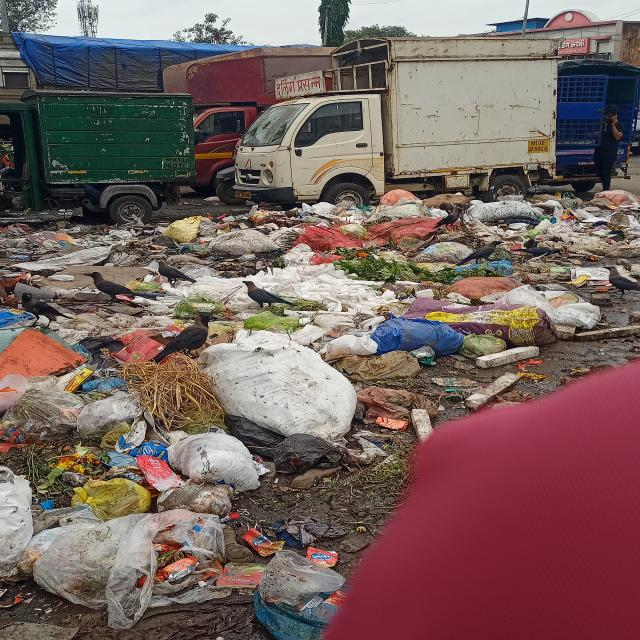garbage: (0, 198, 631, 366), (8, 375, 379, 640)
